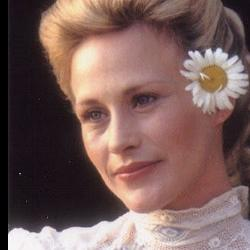face: (29, 1, 250, 217)
